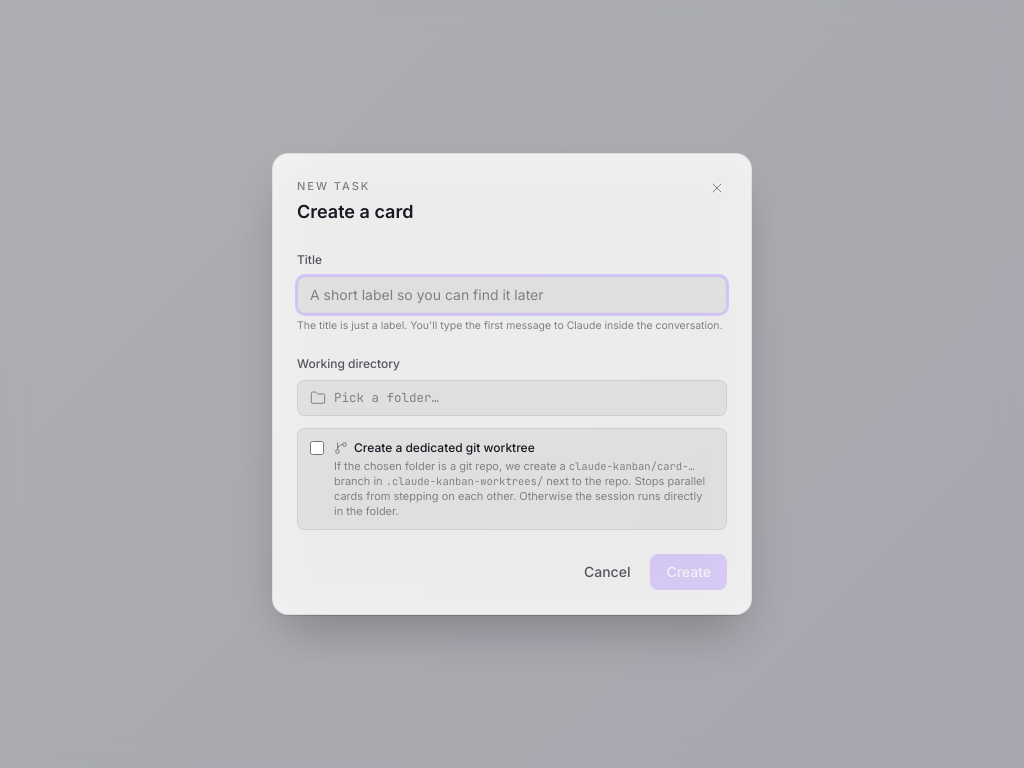
Test case: <CreateCardModal /> › Create is disabled until title + folder are both set
This screenshot has width=1024, height=768.
expect the button "Create" is disabled: met, box [650,554,727,590]
Type "My task" into the field with placeholder "A short label so you can find it later" at x=512, y=295, box [297,276,727,314]
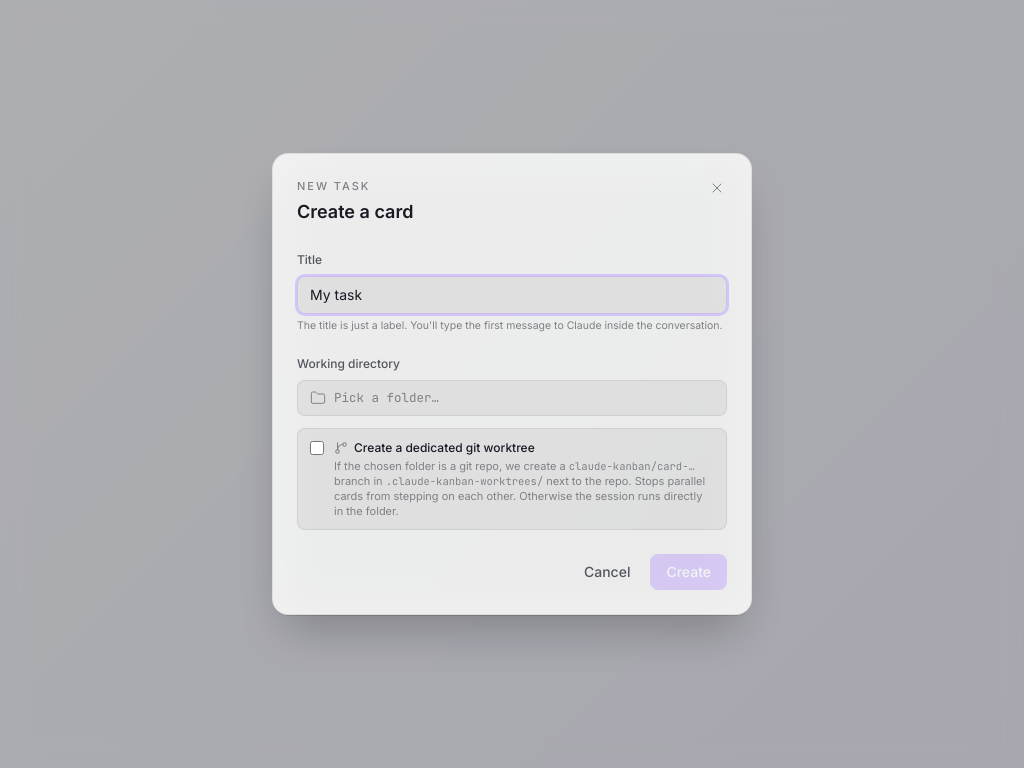
expect the button "Create" is disabled: met, box [650,554,727,590]
Click the button "Pick a folder…" at x=387, y=397, box [297,380,727,416]
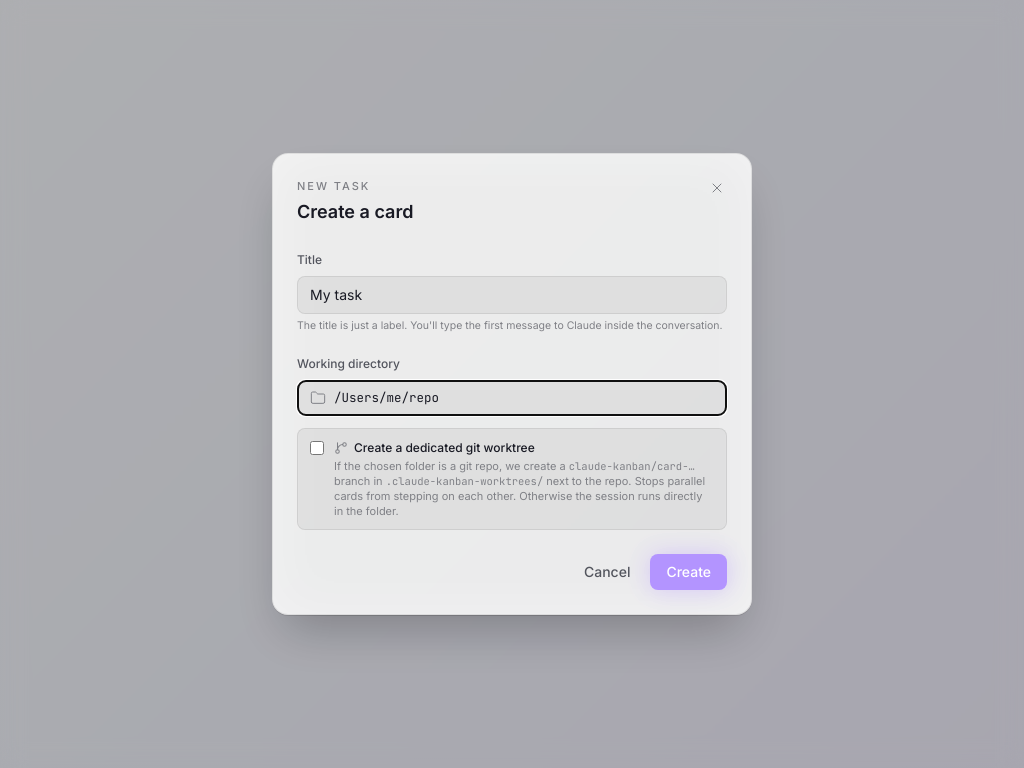
expect the text "/Users/me/repo" is shown: met, box [334,389,439,406]
expect the button "Create" is enabled: met, box [650,554,727,590]
